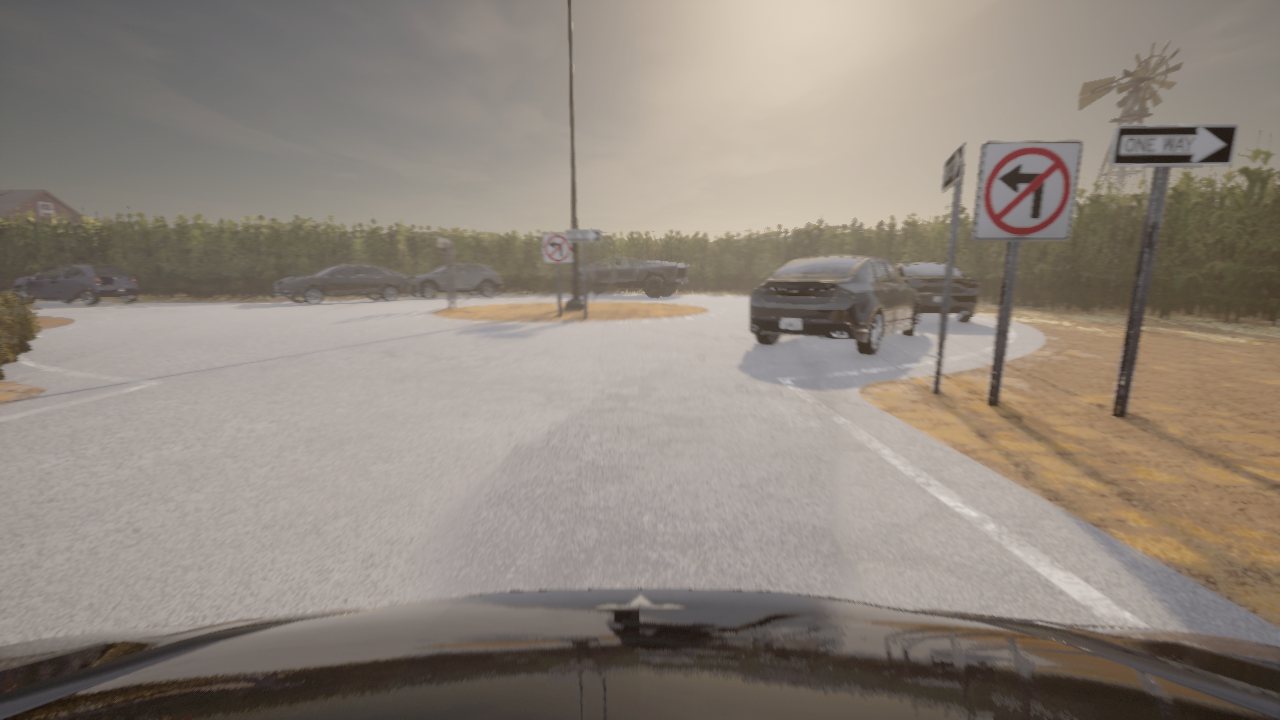cyclist: (0, 588, 1279, 719), (750, 255, 923, 355), (893, 261, 978, 322), (12, 265, 139, 304), (569, 256, 688, 296), (275, 264, 405, 294), (402, 265, 499, 281)
